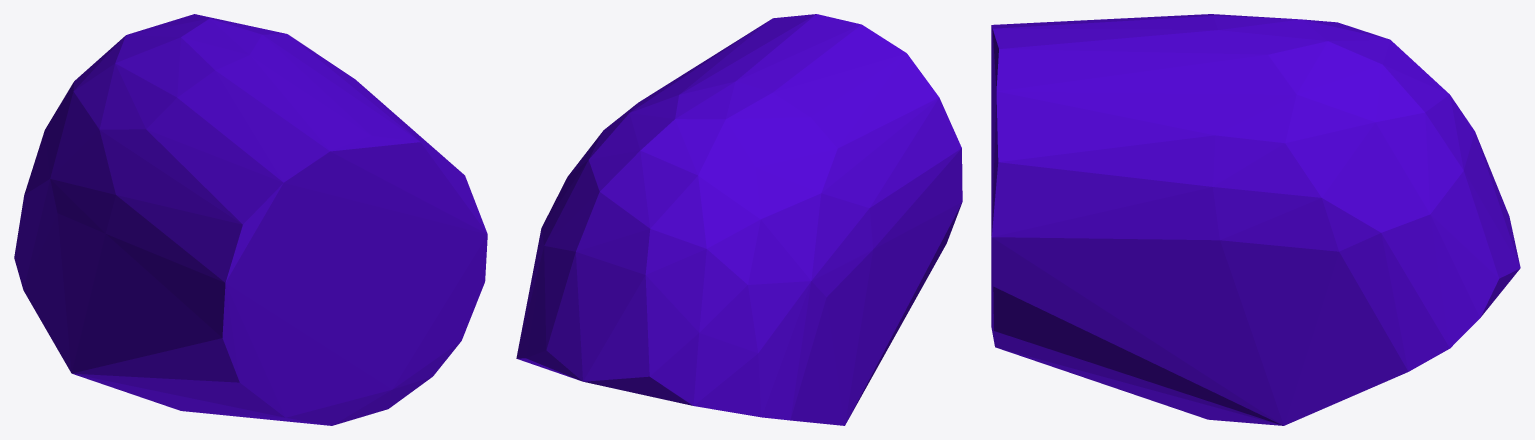
Rendered from arm-L2_convex_piece_000.obj.
3 renders of one model, left to right at view 1: azimuth 30°, elevation 25°; view 2: azimuth 150°, elevation 25°; view 3: azimuth 270°, elevation 25°, orthographic. The views are drawn at different scales.
Size of the model in its own units: 0.0818 by 0.0898 by 0.1223.
